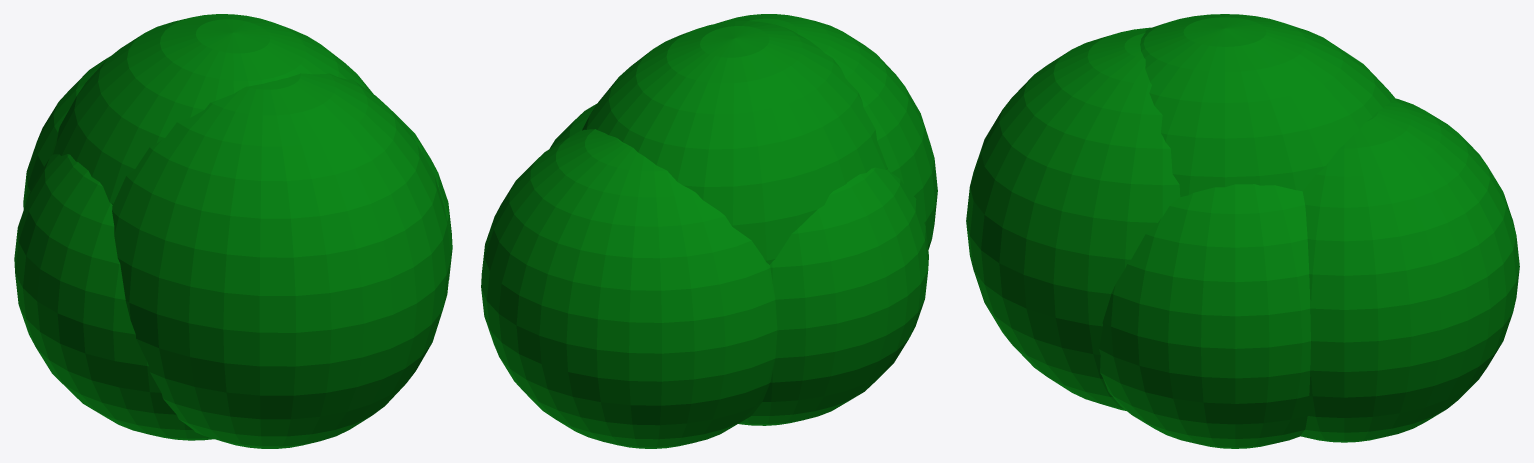
The model's file is Bush.fbx.
3 views of the same model, side by side, from view 1: azimuth 30°, elevation 25°; view 2: azimuth 150°, elevation 25°; view 3: azimuth 270°, elevation 25° (orthographic). The views are drawn at different scales.
Parts seen in each view (by area): view 1: Sphere.004; view 2: Sphere.004; view 3: Sphere.004.
Boxes of the visible parts, x1,y1,x2,y2 form: Sphere.004: [14, 14, 452, 448]; Sphere.004: [481, 14, 937, 448]; Sphere.004: [966, 14, 1519, 448].
Bounding box in the file's own units: 249 × 236 × 308.
